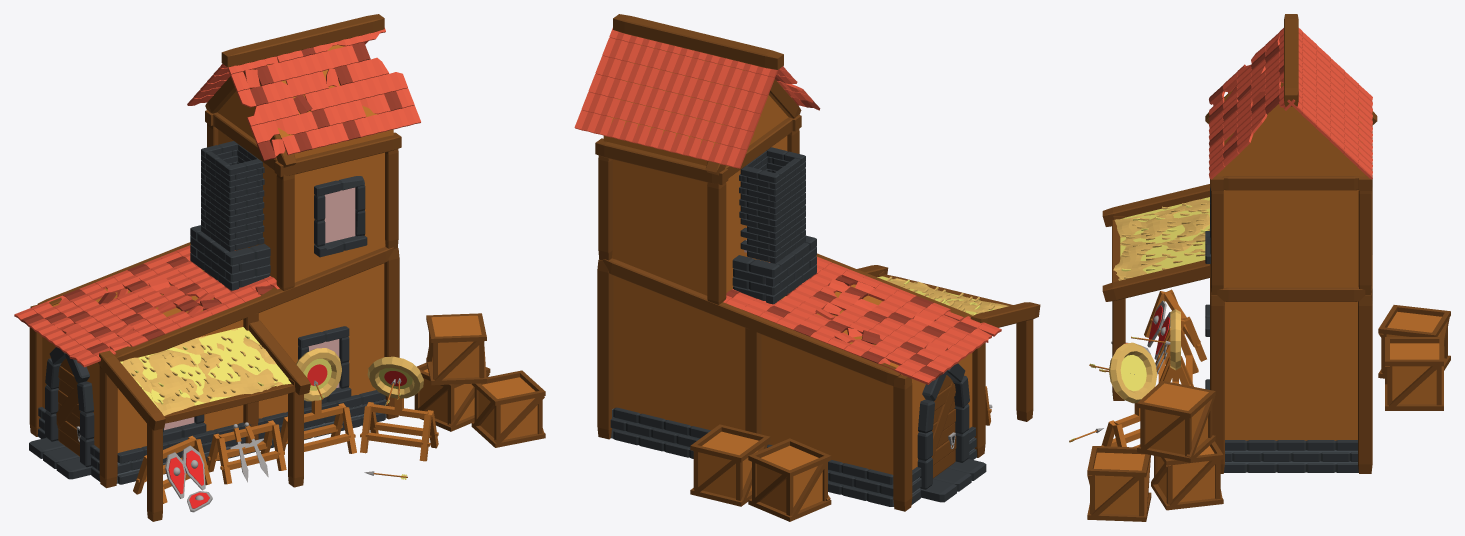
The model's file is Barrack.fbx.
The picture shows the model from 3 angles, left to right: view 1: azimuth 30°, elevation 25°; view 2: azimuth 150°, elevation 25°; view 3: azimuth 270°, elevation 25°; orthographic projection. The views are drawn at different scales.
Visible parts, largest first — view 1: Cube, Plane.001, Cube.707, Cube.406, Cube.708, Plane, Cube.668, Cube.383, Cube.706, Cube.201, Cube.409, Cube.191 (+17 smaller); view 2: Cube, Cube.704, Cube.407, Cube.705, Cube.668, Cube.194, Cube.192, Cube.411, Cube.415, Cube.197, Cube.408, Cube.412 (+8 smaller); view 3: Cube, Cube.708, Cube.707, Cube.705, Cube.706, Plane.001, Cube.194, Cube.704, Cube.193, Cube.520, Cube.199, Plane (+13 smaller).
Part boxes in pixels (left/top/right/bottom): Cube: left=42, top=45, right=393, bottom=452; Plane.001: left=122, top=328, right=282, bottom=415; Cube.707: left=471, top=370, right=545, bottom=447; Cube.406: left=114, top=247, right=394, bottom=361; Cube.708: left=426, top=313, right=486, bottom=385; Plane: left=120, top=327, right=291, bottom=408; Cube.668: left=221, top=14, right=384, bottom=67; Cube.383: left=360, top=398, right=438, bottom=461; Cube.706: left=414, top=362, right=490, bottom=431; Cube.201: left=207, top=420, right=286, bottom=484; Cube.409: left=276, top=174, right=294, bottom=291; Cube.191: left=99, top=365, right=117, bottom=488; Cube: left=603, top=45, right=972, bottom=474; Cube.704: left=748, top=438, right=831, bottom=521; Cube.407: left=603, top=258, right=900, bottom=385; Cube.705: left=690, top=424, right=770, bottom=506; Cube.668: left=613, top=14, right=783, bottom=69; Cube.194: left=597, top=259, right=613, bottom=439; Cube.192: left=893, top=375, right=912, bottom=511; Cube.411: left=707, top=182, right=726, bottom=304; Cube.415: left=595, top=138, right=728, bottom=184; Cube.197: left=1016, top=319, right=1033, bottom=421; Cube.408: left=745, top=328, right=761, bottom=434; Cube.412: left=598, top=155, right=612, bottom=260; Cube: left=1217, top=82, right=1365, bottom=440; Cube.708: left=1137, top=380, right=1215, bottom=462; Cube.707: left=1087, top=446, right=1151, bottom=521; Cube.705: left=1385, top=337, right=1443, bottom=410; Cube.706: left=1151, top=441, right=1223, bottom=510; Plane.001: left=1113, top=199, right=1209, bottom=280; Cube.194: left=1358, top=293, right=1372, bottom=473; Cube.704: left=1378, top=305, right=1450, bottom=378; Cube.193: left=1210, top=293, right=1224, bottom=473; Cube.520: left=1217, top=287, right=1365, bottom=301; Cube.199: left=1102, top=260, right=1209, bottom=301; Plane: left=1120, top=197, right=1209, bottom=279.
Size of the model in its own units: 2013 by 1764 by 1550.
